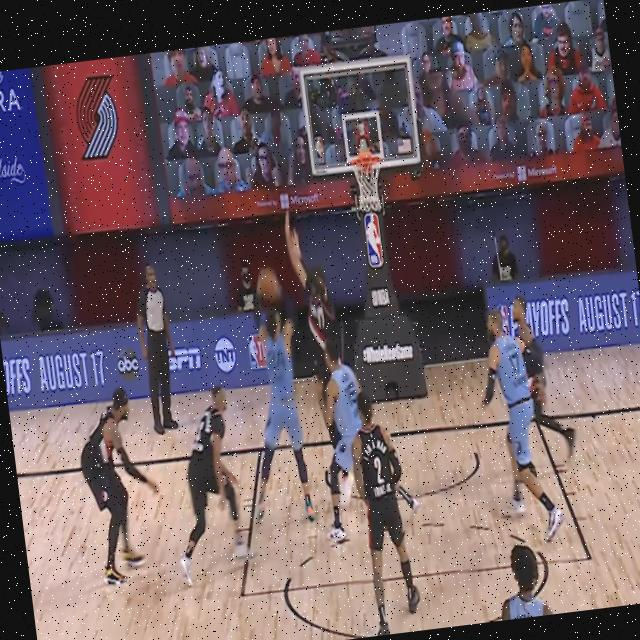no foul: (274, 195, 379, 554), (223, 247, 318, 544), (342, 390, 428, 632), (312, 334, 384, 545)
